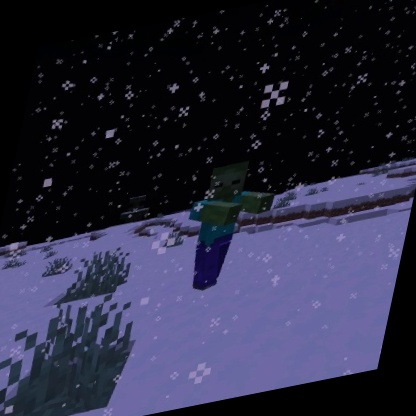zombie: (168, 150, 288, 299)
